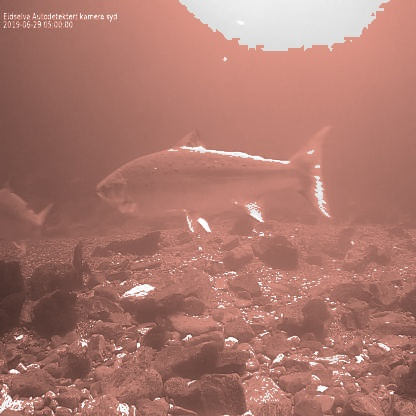salmon: (87, 108, 346, 252)
